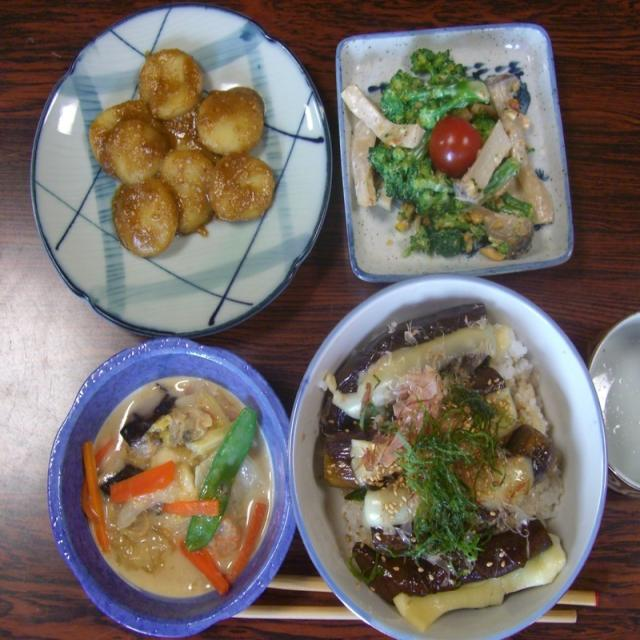鸡蛋料理: (300, 285, 614, 640)
